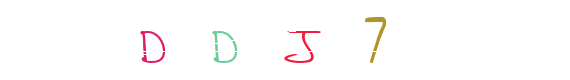7: (337, 0, 417, 80)
D: (189, 0, 269, 80), (197, 0, 277, 80)
J: (245, 0, 325, 80)
